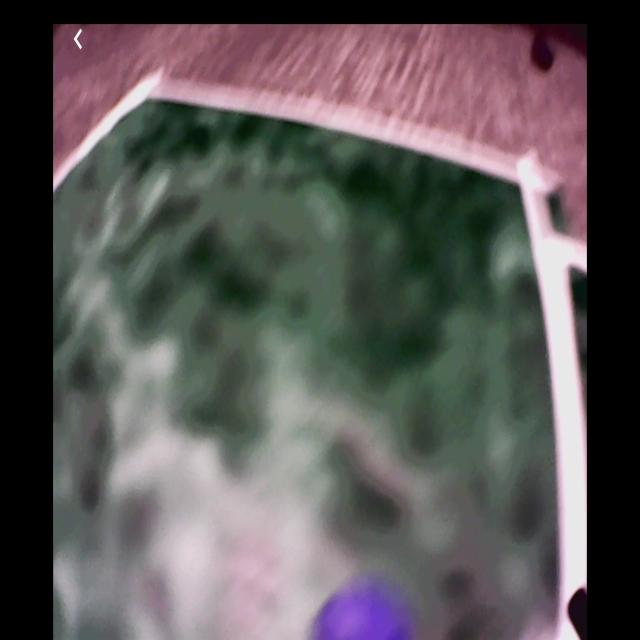ball: (311, 582, 408, 640)
